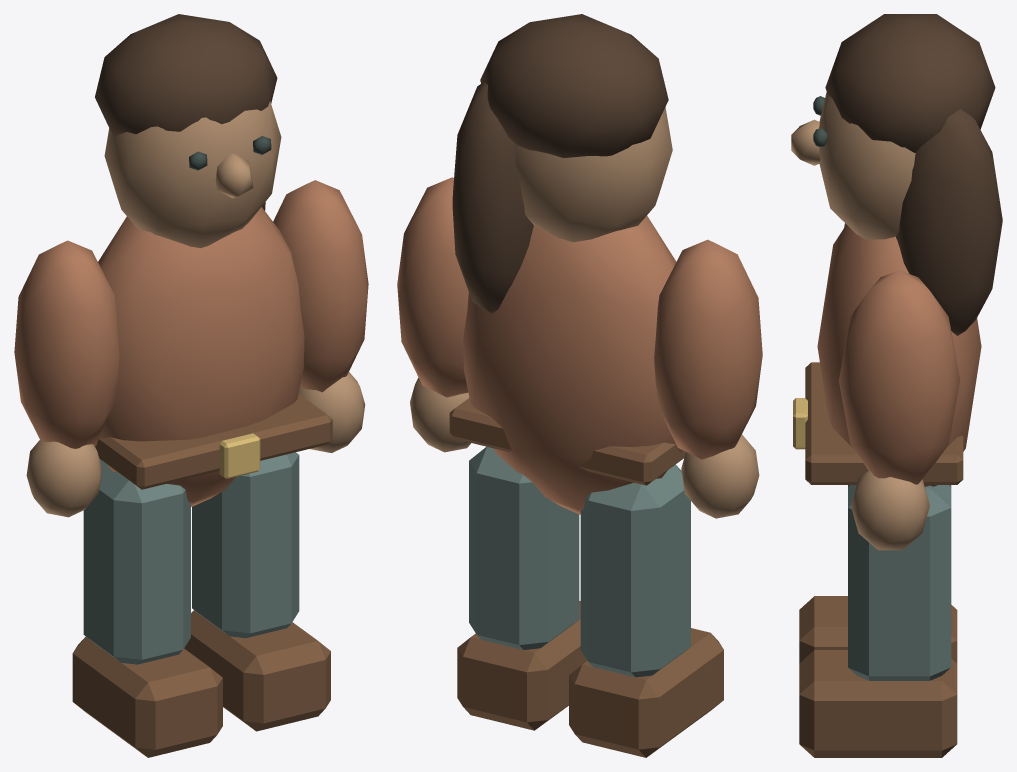
File: citizen_1.glb
3 renders of one model, left to right at view 1: azimuth 30°, elevation 25°; view 2: azimuth 150°, elevation 25°; view 3: azimuth 270°, elevation 25°, orthographic. The views are drawn at different scales.
Parts seen in each view (by area): view 1: Body, LegL, LegR, ArmL, ArmR; view 2: Body, LegL, LegR, ArmL, ArmR; view 3: Body, LegR, ArmR, LegL.
Boxes of the visible parts, left/top/right/bottom form: Body: left=93, top=14, right=332, bottom=506; LegL: left=72, top=459, right=222, bottom=757; LegR: left=184, top=452, right=330, bottom=731; ArmL: left=14, top=240, right=119, bottom=517; ArmR: left=273, top=180, right=368, bottom=452; Body: left=449, top=14, right=685, bottom=514; LegL: left=569, top=464, right=723, bottom=757; LegR: left=457, top=446, right=587, bottom=730; ArmL: left=654, top=239, right=762, bottom=518; ArmR: left=397, top=177, right=470, bottom=452; Body: left=791, top=14, right=1002, bottom=486; LegR: left=799, top=485, right=957, bottom=757; ArmR: left=838, top=270, right=960, bottom=550; LegL: left=799, top=485, right=957, bottom=663.
Size of the model in its own units: 0.6512 by 1.26 by 0.3483.
